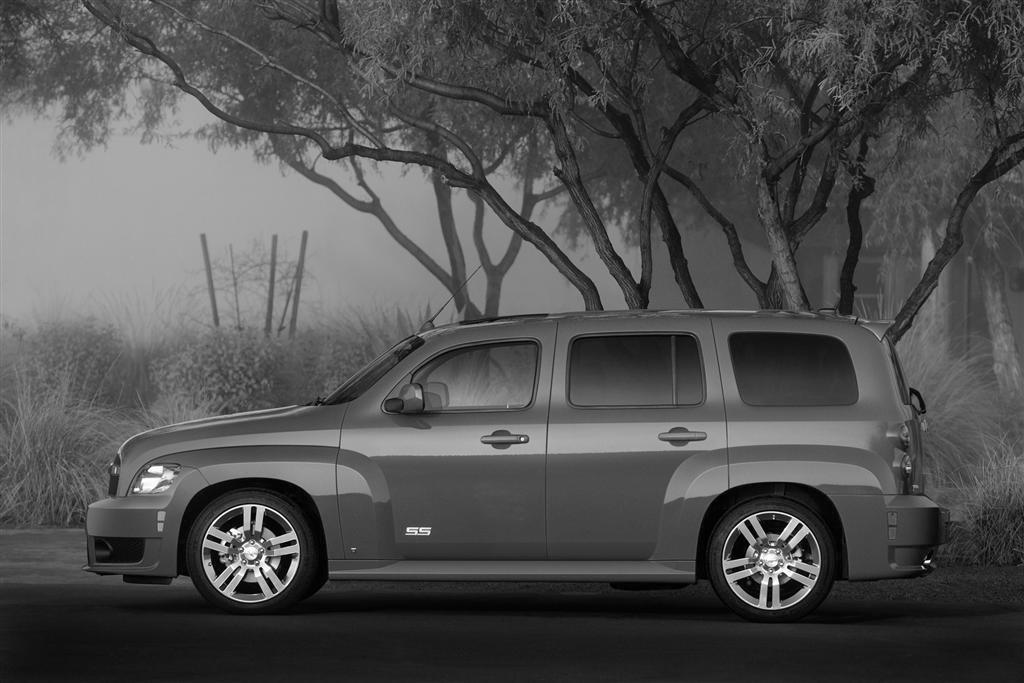car: (78, 300, 952, 633)
